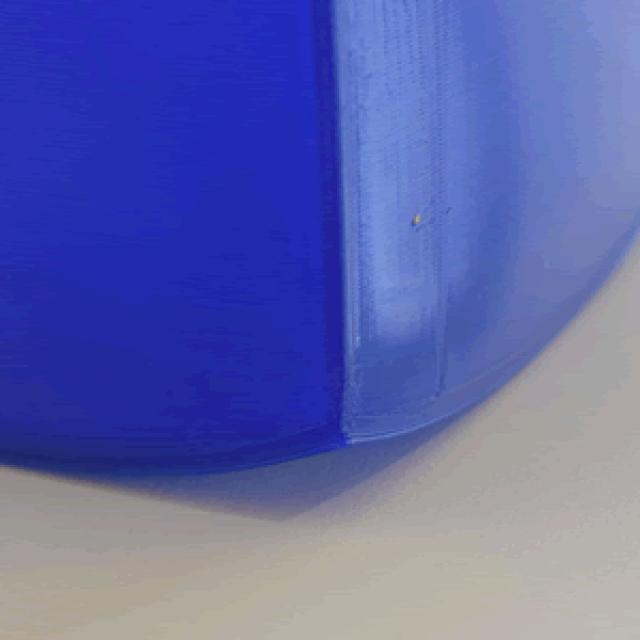Warping: (115, 334, 549, 546)
